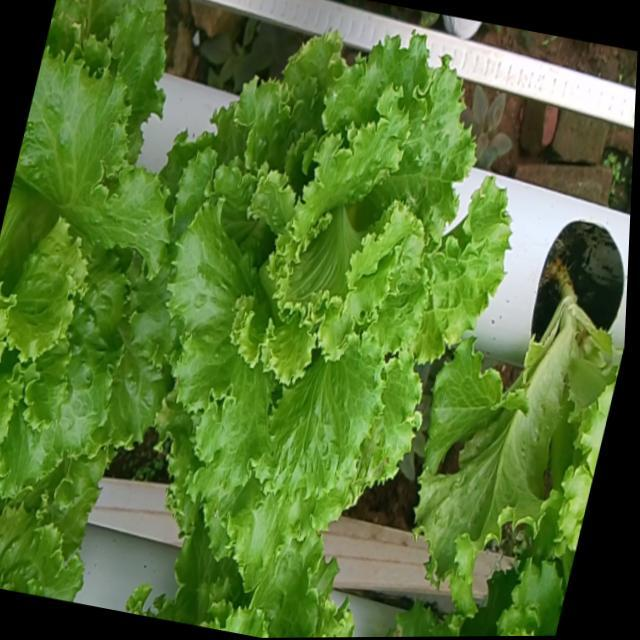Mature: (154, 22, 508, 554), (0, 35, 172, 486)
